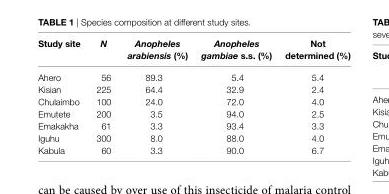table: (37, 37, 349, 154)
table column: (193, 37, 277, 154), (118, 37, 193, 154), (277, 37, 349, 154), (37, 37, 87, 154), (87, 37, 118, 154)
table column header: (37, 37, 349, 65)
table row: (37, 37, 349, 65), (37, 65, 349, 82), (37, 106, 349, 119), (37, 82, 349, 94), (37, 94, 349, 106), (37, 119, 349, 131), (37, 131, 349, 143), (37, 143, 349, 154)
